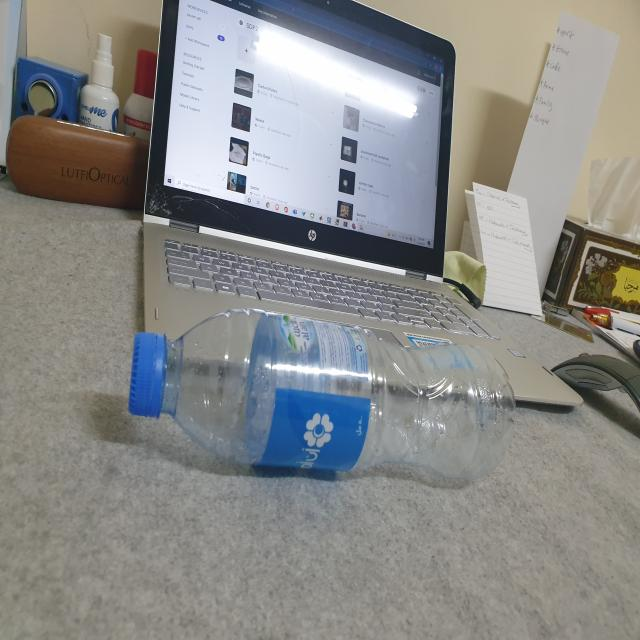bottle: (121, 310, 516, 500)
